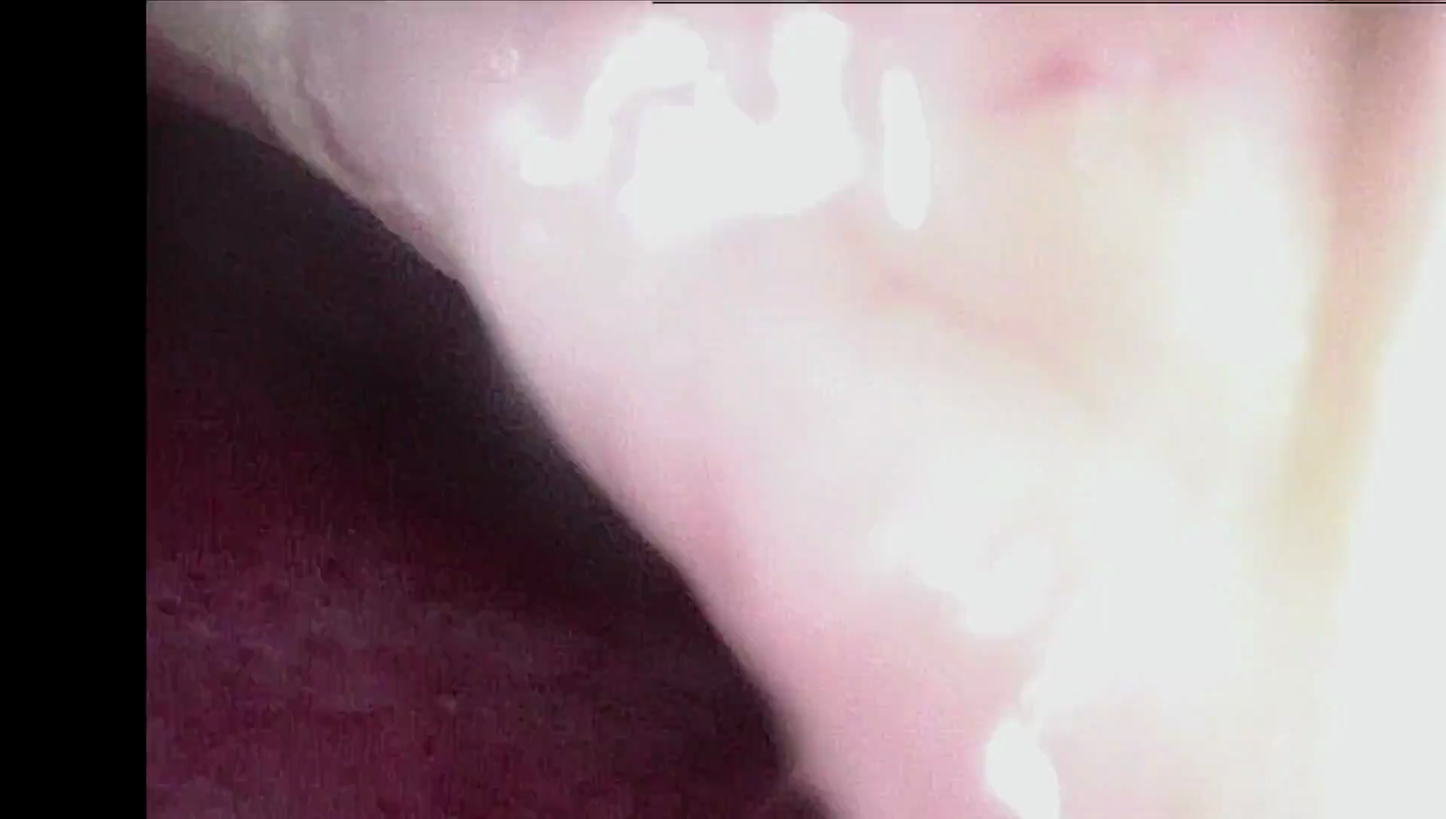close_wall: (751, 13, 1446, 819), (486, 0, 1446, 394)
next: (304, 303, 648, 623)
